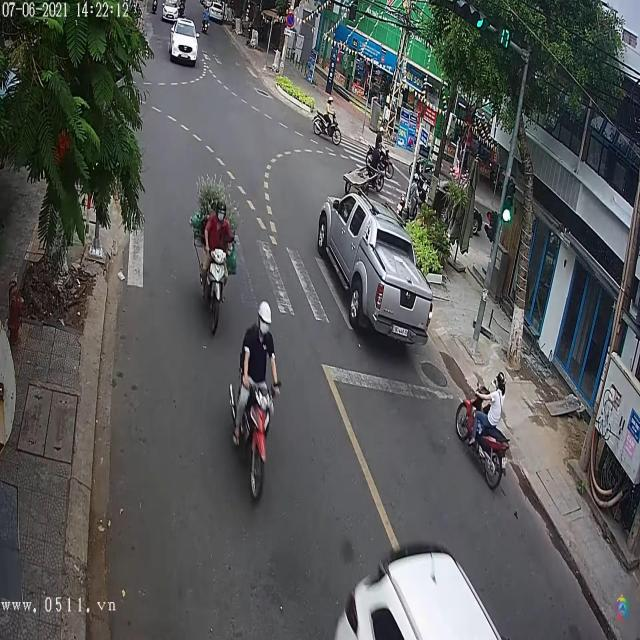car: (316, 193, 436, 349), (170, 20, 200, 65), (162, 2, 181, 23)
motorcycle: (228, 348, 282, 504), (455, 379, 510, 492), (198, 233, 237, 336), (311, 105, 341, 144), (367, 139, 394, 180)
